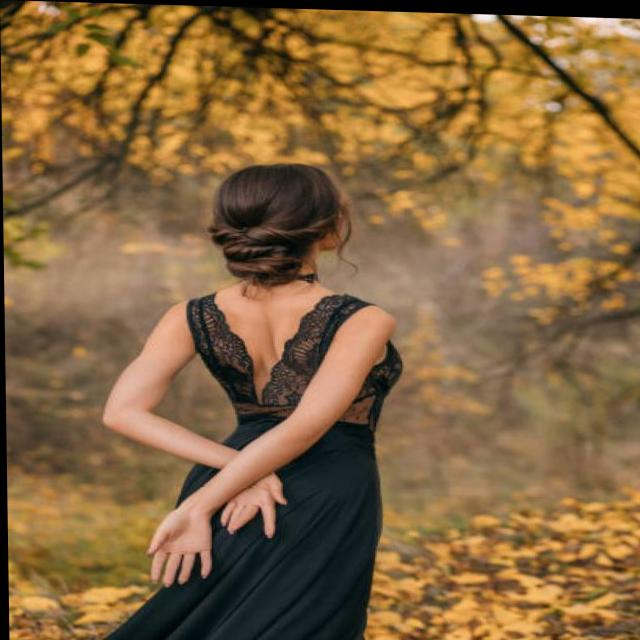no helmet: (183, 153, 364, 300)
